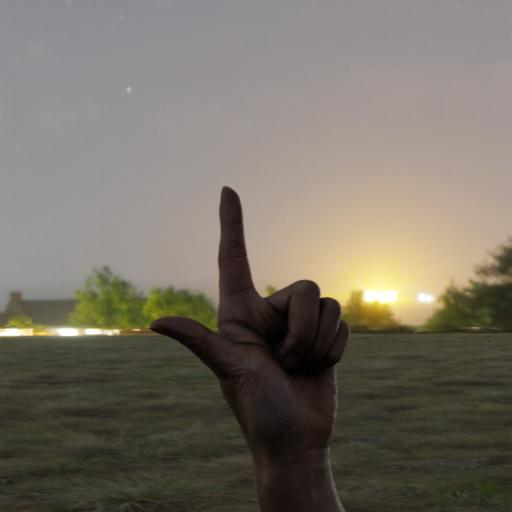L: (145, 174, 364, 454)
